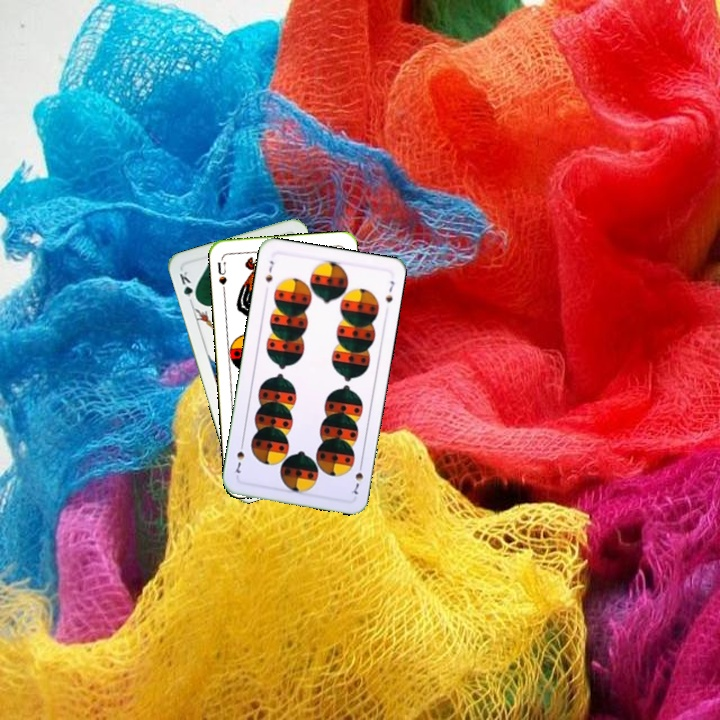GK: (175, 267, 200, 307)
S7: (347, 458, 366, 497), (261, 256, 276, 285)
SU: (213, 258, 229, 295)
